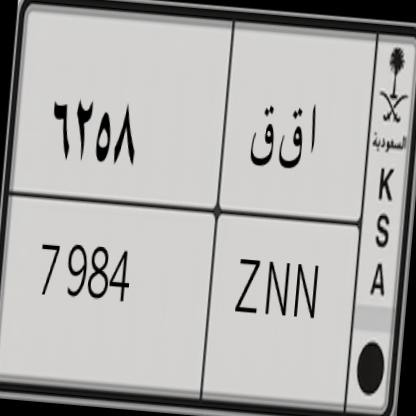english: (0, 167, 371, 416)
